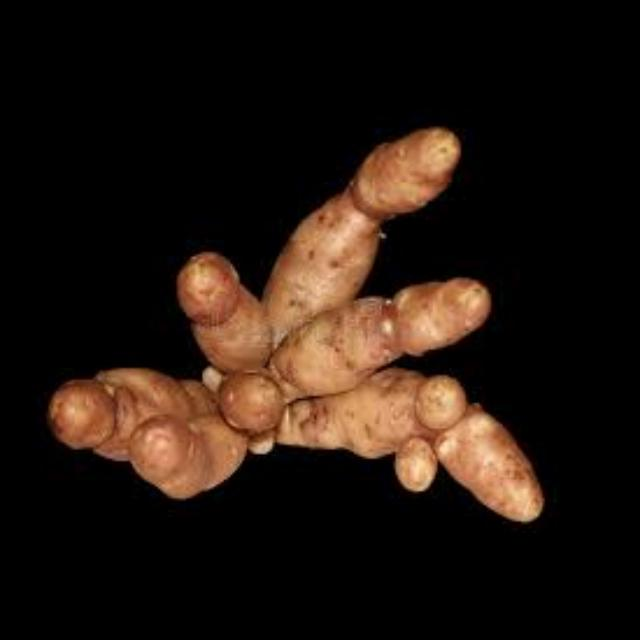Damaged potato: (32, 108, 560, 522)
